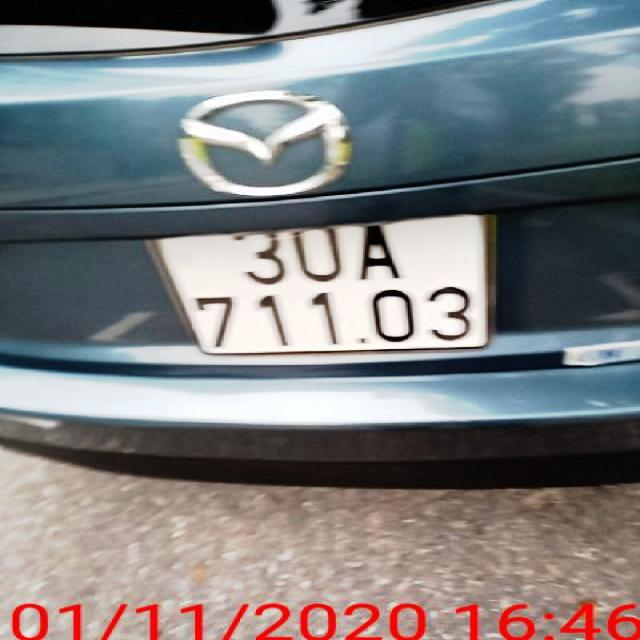license_plate: (139, 213, 495, 357)
